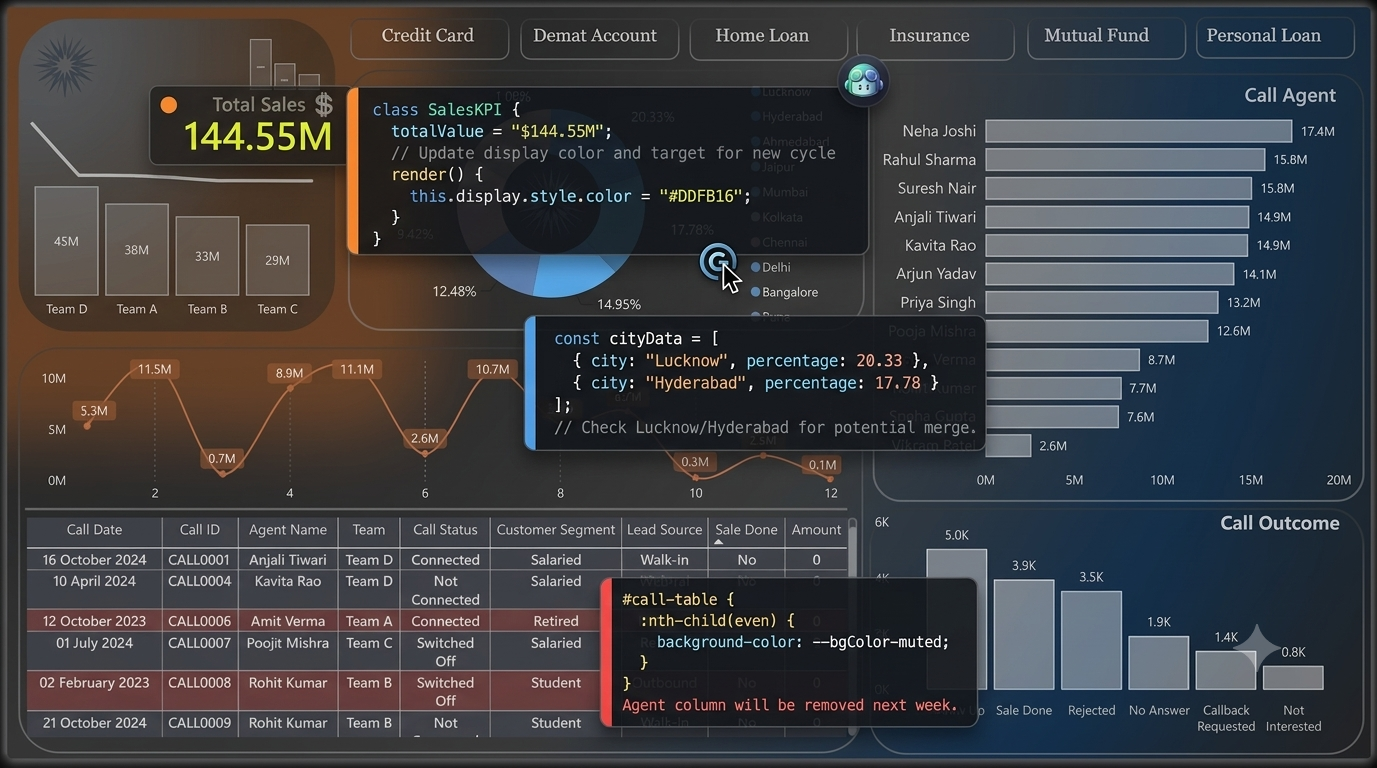

The dashboard page shown, as its layout file describes it:
{"tool":"powerbi","page":{"name":"Page 6","canvas":[1305,720],"ordinal":0},"visuals":[{"type":"lineChart","title":"Monthly Sale","fields":{"Y":["Tele_sale.Total_sales"],"Category":["DateTable.Month Number"]},"box":[28,326.8,775.6,157.3],"z":0},{"type":"clusteredBarChart","title":"Agent","fields":{"Category":["Tele_sale.Agent Name"],"Y":["Sum(Tele_sale.Sale Amount INR)"]},"box":[830,83.8,456.1,381.7],"z":1000},{"type":"advancedSlicerVisual","fields":{"Values":["Tele_sale.Product"]},"box":[303.8,0,1001.1,53.3],"z":2000},{"type":"card","title":"Total Sales","fields":{"Values":["Sum(Tele_sale.Sale Amount INR)"]},"box":[158.8,80,163.8,66.2],"z":3000},{"type":"donutChart","fields":{"Category":["Tele_sale.City"],"Y":["Sum(Tele_sale.Sale Amount INR)"]},"box":[326.2,62.5,475.6,251.2],"z":4000},{"type":"clusteredColumnChart","title":"Agent","fields":{"Category":["Tele_sale.Outcome"],"Y":["Sum(Tele_sale.Call Duration Mins)"]},"box":[830,483.8,456.2,215],"z":5000},{"type":"clusteredColumnChart","title":"Agent","fields":{"Y":["Sum(Tele_sale.Sale Amount INR)"],"Category":["Tele_sale.Team"]},"box":[0,157.3,317.1,143.9],"z":6000},{"type":"shape","box":[17.1,476.8,786.6,7.3],"z":7000},{"type":"tableEx","title":"Agent","fields":{"Values":["Tele_sale.Call Date","Tele_sale.Call ID","Tele_sale.Agent Name","Tele_sale.Team","Tele_sale.Call Status","Tele_sale.Customer Segment","Tele_sale.Lead Source","Tele_sale.Sale Done","Sum(Tele_sale.Sale Amount INR)"]},"box":[17.5,483.8,795,213.8],"z":8000},{"type":"image","box":[453.8,126.2,133.8,123.8],"z":9000},{"type":"textbox","box":[1150,66.2,155,35],"z":10000},{"type":"textbox","box":[1131.2,476.2,173.8,42.5],"z":11000},{"type":"lineChart","title":"Total Sales","fields":{"Y":["Sum(Tele_sale.Sale Amount INR)"],"Category":["DateTable.Day Name"]},"box":[6.2,101.2,303.8,72.5],"z":12000},{"type":"image","box":[0,0,111.2,112.5],"z":13000},{"type":"image","box":[266.2,80,75,27.5],"z":14000},{"type":"columnChart","title":"Agent","fields":{"Category":["Tele_sale.Day_Type"],"Y":["Sum(Tele_sale.Sale Amount INR)"]},"box":[232.5,21.2,67.5,58.8],"z":15000}]}

Visuals, with their boxes in screenshot pixels (x1, y1, x2, y2), scaled from the page's 1305x720 canvas onto the 1377x768 screenshot:
"Monthly Sale" lineChart: <box>30,349,848,516</box>
"Agent" clusteredBarChart: <box>876,89,1357,497</box>
advancedSlicerVisual - Tele_sale.Product: <box>321,0,1376,57</box>
"Total Sales" card: <box>168,85,340,156</box>
donutChart - Tele_sale.City x Sum(Tele_sale.Sale Amount INR): <box>344,67,846,335</box>
"Agent" clusteredColumnChart: <box>876,516,1357,745</box>
"Agent" clusteredColumnChart: <box>0,168,335,321</box>
shape: <box>18,509,848,516</box>
"Agent" tableEx: <box>18,516,857,744</box>
image: <box>479,135,620,267</box>
textbox: <box>1213,71,1376,108</box>
textbox: <box>1194,508,1376,553</box>
"Total Sales" lineChart: <box>7,108,327,185</box>
image: <box>0,0,117,120</box>
image: <box>281,85,360,115</box>
"Agent" columnChart: <box>245,23,317,85</box>
